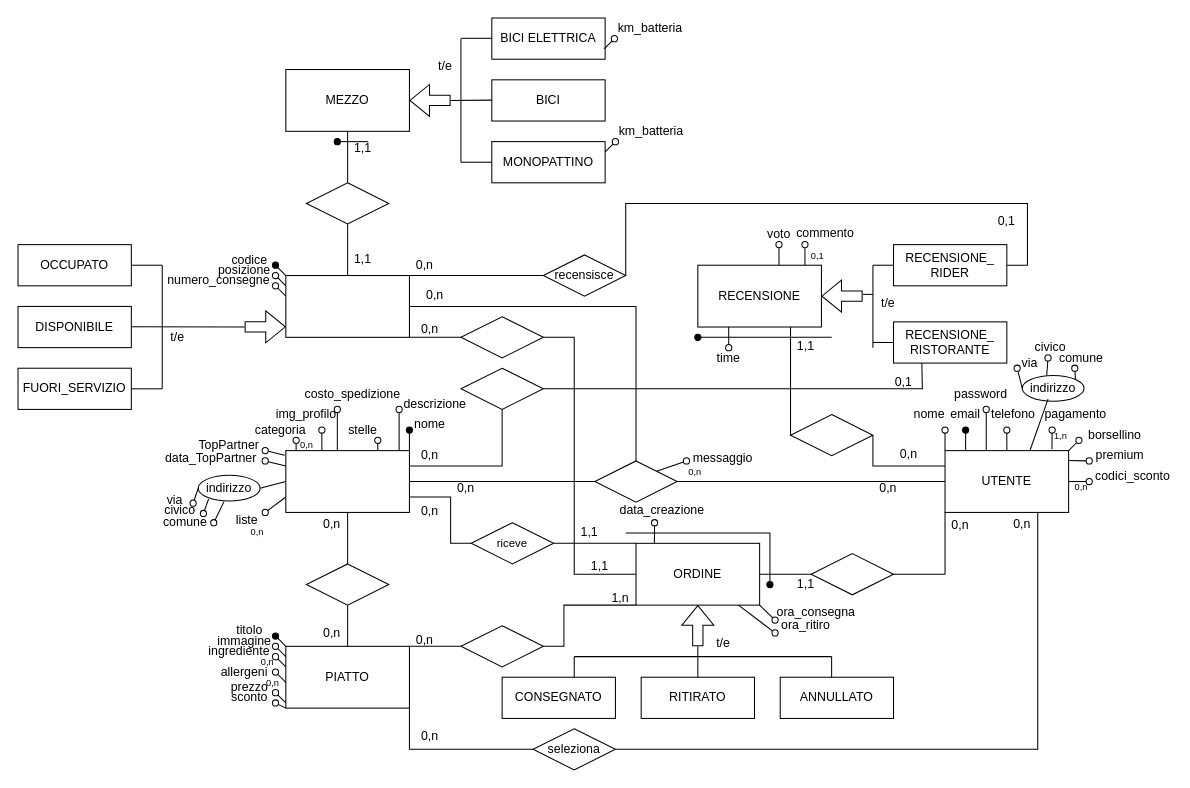
Some shapes in this 1190 by 788 pixel diagram are drawn without their labels. The shapes that lost their labels are listed below. From the top down, each one's centre as x and y in pixels, then its label:
At point 347,203: "guida".
At point 347,305: "RIDER".
At point 501,337: "consegna".
At point 501,388: "valuta".
At point 831,435: "scrive".
At point 347,481: "RISTORANTE".
At point 635,481: "Interazione".
At point 347,584: "presenta".
At point 852,574: "effettua".
At point 501,646: "contiene".
